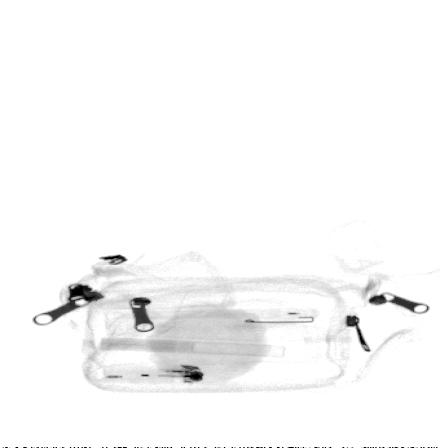Lighter: (104, 364, 205, 383)
